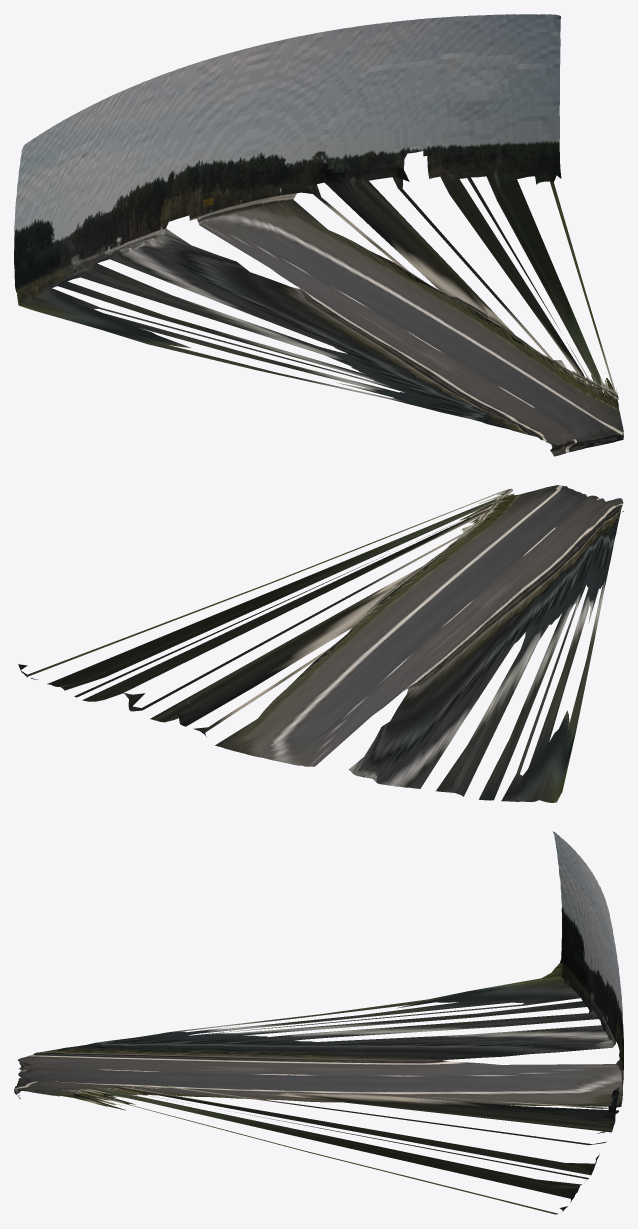
3 renders of one model, top to bottom at view 1: azimuth 30°, elevation 25°; view 2: azimuth 150°, elevation 25°; view 3: azimuth 270°, elevation 25°, orthographic. The views are drawn at different scales.
Parts seen in each view (by area): view 1: defaultobject; view 2: defaultobject; view 3: defaultobject.
Part boxes in pixels (x1=…): defaultobject: x1=14, y1=14, x2=623, y2=456; defaultobject: x1=18, y1=485, x2=623, y2=802; defaultobject: x1=14, y1=831, x2=623, y2=1214.
Bounding box in the file's own units: 41.16 × 12.89 × 44.33.
1 material, 1 textured.
